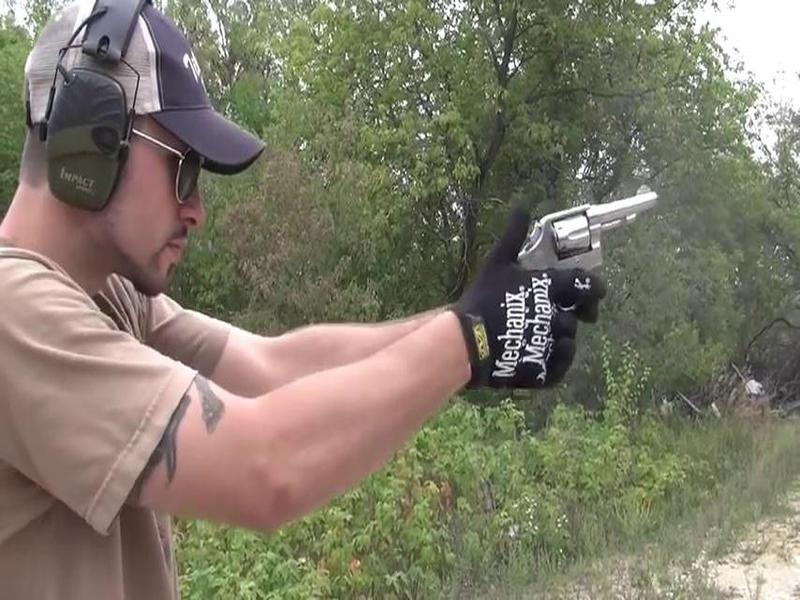Revolver: (507, 181, 661, 286)
